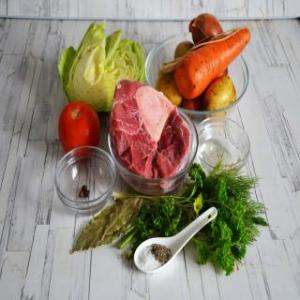cabbage: (68, 30, 134, 98)
carrot: (178, 34, 240, 90)
potato: (207, 77, 235, 109)
tomato: (58, 102, 100, 148)
